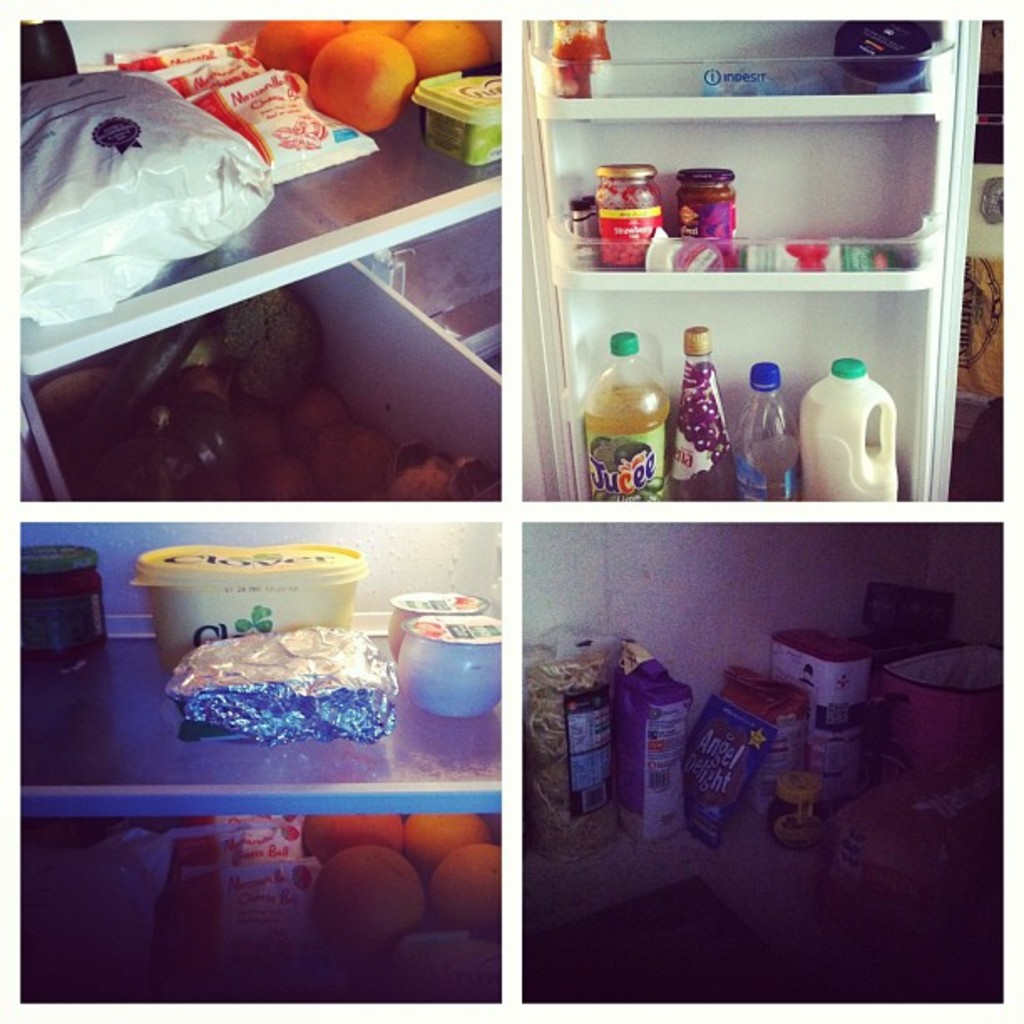refrigerator door: (539, 43, 971, 522)
